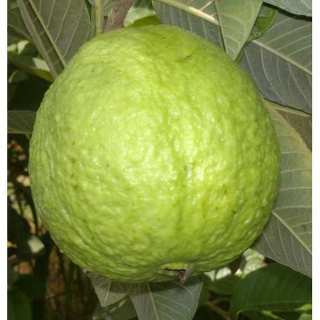oi: (27, 28, 280, 284)
